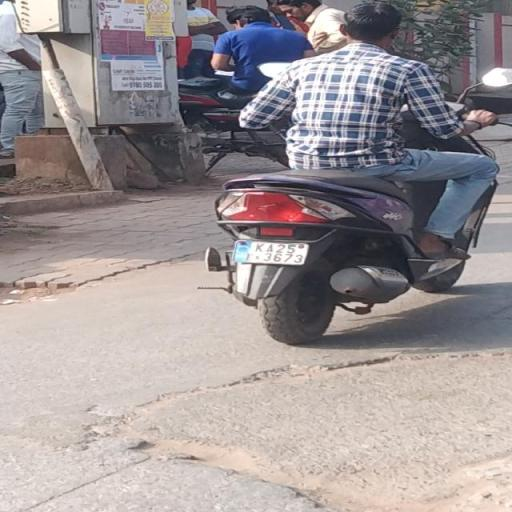bike: (196, 3, 510, 349)
numberplate: (234, 240, 307, 266)
withouthelmet: (344, 3, 395, 43)
